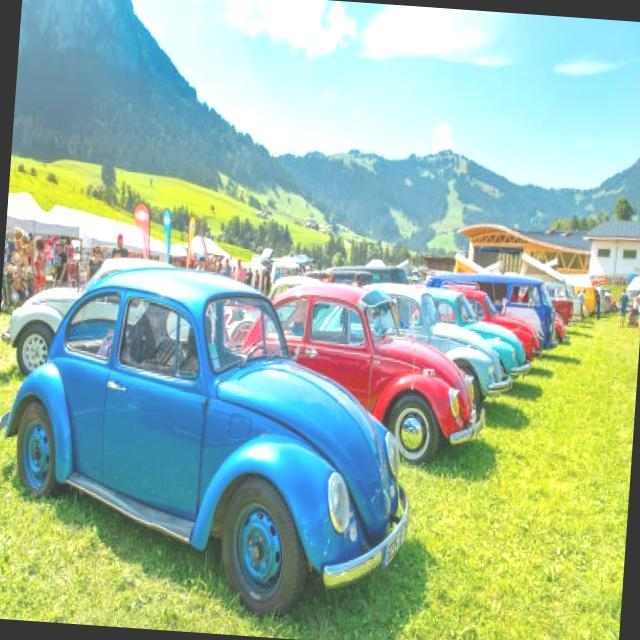car: (3, 260, 424, 600), (259, 264, 480, 458)
